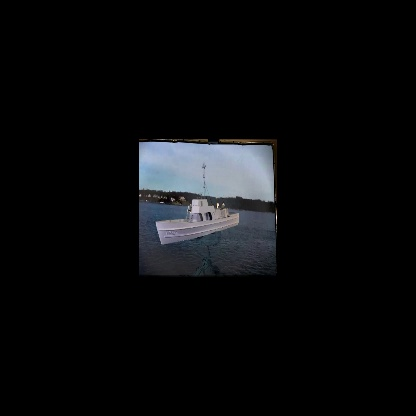YP689: (155, 163, 240, 246)
